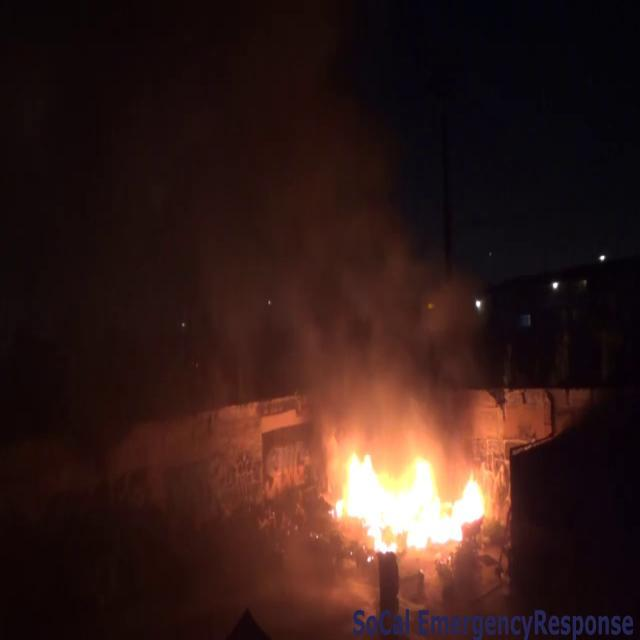Fire: (320, 436, 497, 552)
Smoke: (143, 9, 476, 456)
